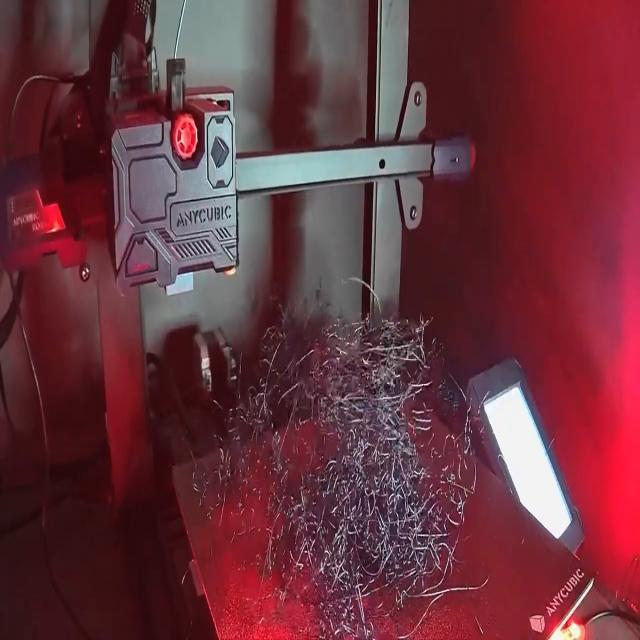spaghetti: (177, 310, 477, 632)
